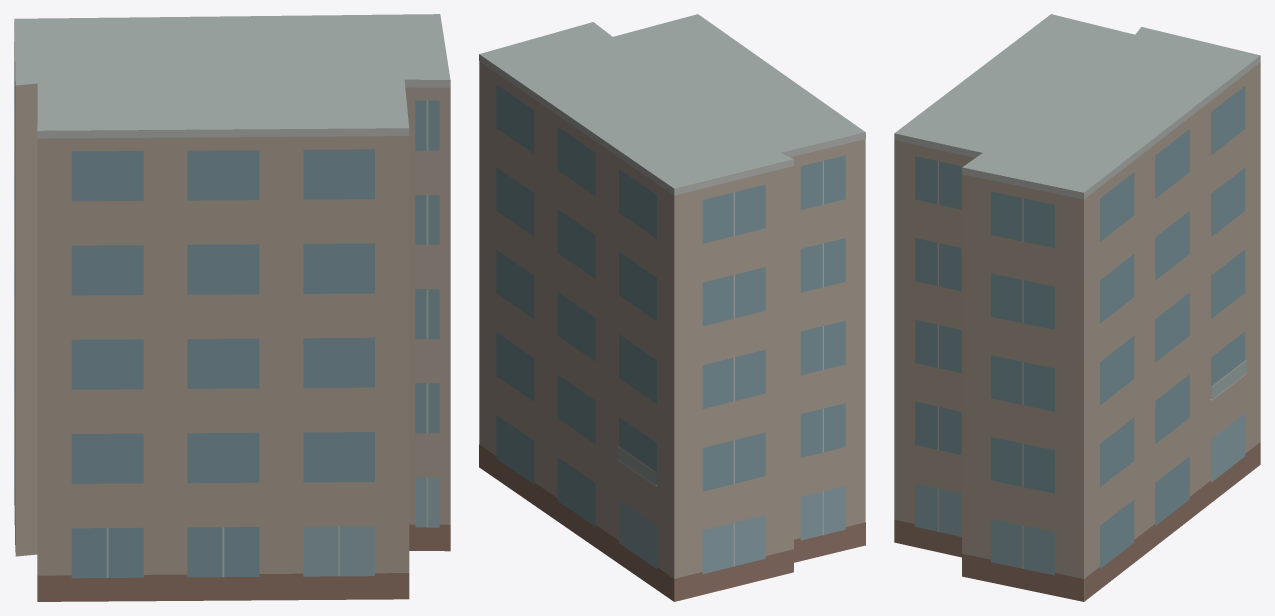
Rendered from survey-upis-32993168.glb.
The picture shows the model from 3 angles, left to right: view 1: azimuth 30°, elevation 25°; view 2: azimuth 150°, elevation 25°; view 3: azimuth 270°, elevation 25°; orthographic projection. The views are drawn at different scales.
Visible parts, largest first — view 1: survey-upis-32993168.tmp; view 2: survey-upis-32993168.tmp; view 3: survey-upis-32993168.tmp.
Part boxes in pixels (box(x1,y1,x2,y2)): survey-upis-32993168.tmp: box(14, 14, 450, 601); survey-upis-32993168.tmp: box(479, 14, 865, 601); survey-upis-32993168.tmp: box(894, 14, 1260, 601).
Size of the model in its own units: 13.88 by 14.8 by 12.02.
